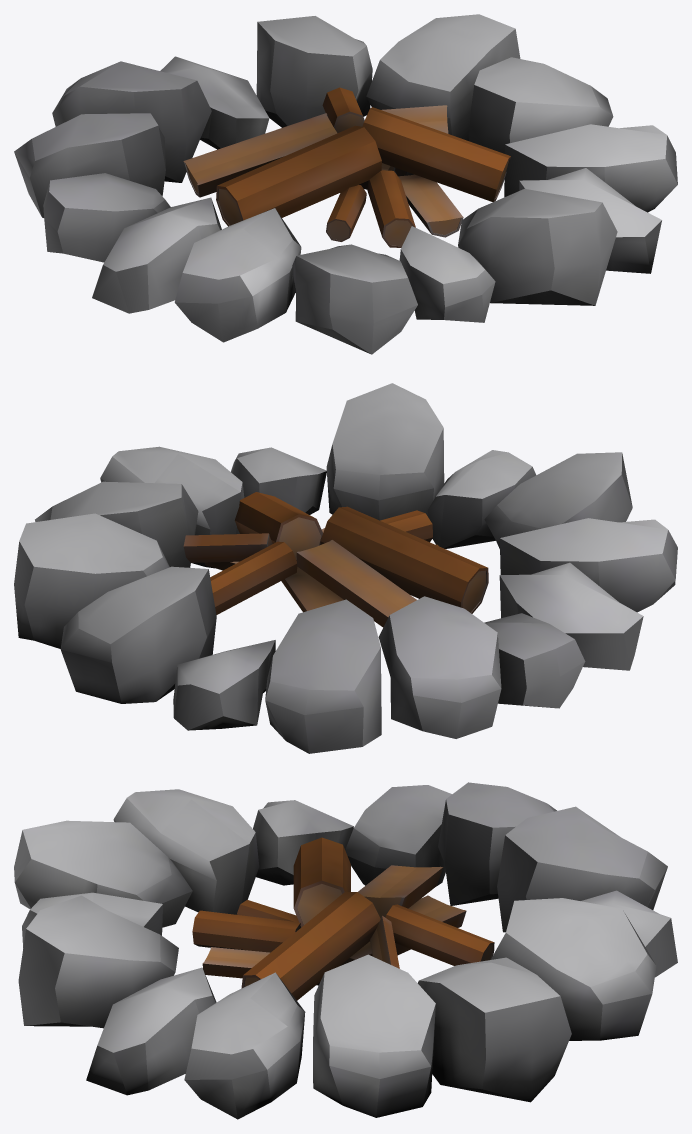
File: Campfire.fbx
The picture shows the model from 3 angles, top to bottom: view 1: azimuth 30°, elevation 25°; view 2: azimuth 150°, elevation 25°; view 3: azimuth 270°, elevation 25°; orthographic projection. The views are drawn at different scales.
Visible parts, largest first — view 1: Campfire; view 2: Campfire; view 3: Campfire.
Part boxes in pixels (left/top/right/bottom): Campfire: left=14, top=14, right=677, bottom=354; Campfire: left=14, top=383, right=677, bottom=753; Campfire: left=14, top=782, right=677, bottom=1119.
Bounding box in the file's own units: 199 × 40.86 × 199.
1 material, 1 textured.
